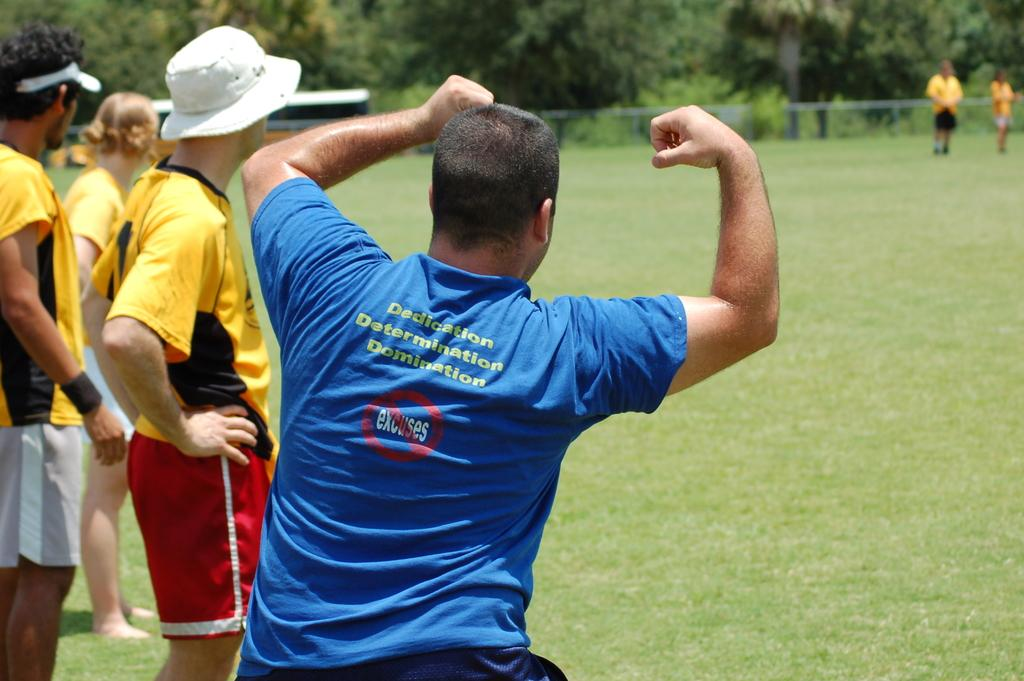Hat: (162, 20, 304, 142)
